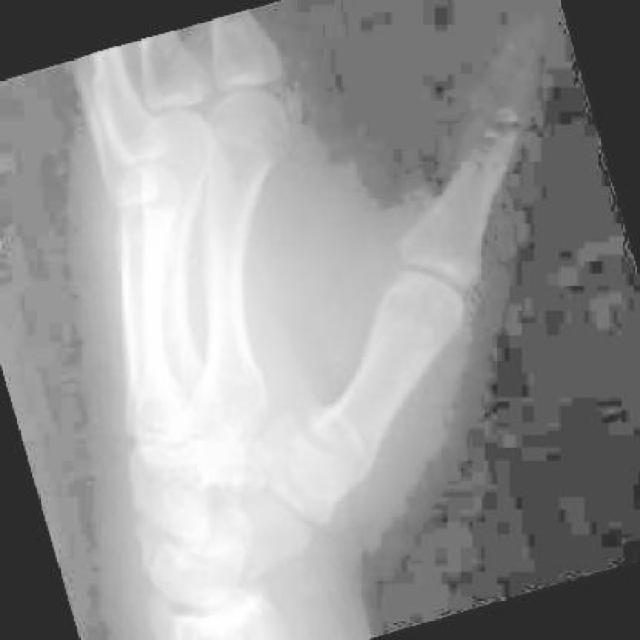Fracture: (280, 371, 388, 491)
